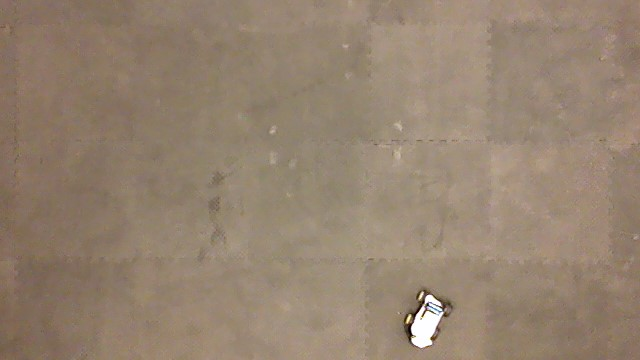Agent: (403, 287, 455, 352)
